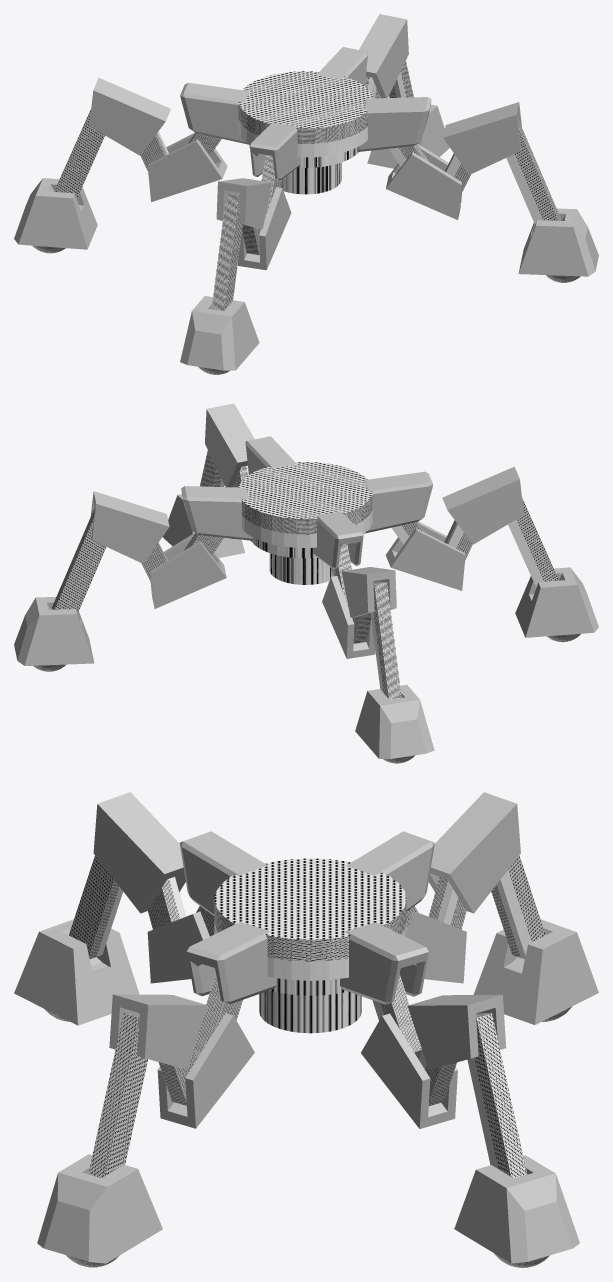
File: RobotBody.fbx
The picture shows the model from 3 angles, top to bottom: view 1: azimuth 30°, elevation 25°; view 2: azimuth 150°, elevation 25°; view 3: azimuth 270°, elevation 25°; orthographic projection. The views are drawn at different scales.
Parts seen in each view (by area): view 1: 실린더, 큐브.032, 큐브.025, 큐브.018, 큐브.024, 큐브.017, 큐브.016, 큐브.023, 큐브.014, 큐브.021, 큐브.004, 큐브.033 (+9 smaller); view 2: 실린더, 큐브.025, 큐브.032, 큐브.005, 큐브.031, 큐브.004, 큐브.030, 큐브.003, 큐브.028, 큐브.000, 큐브.017, 큐브.026 (+9 smaller); view 3: 실린더, 큐브.018, 큐브.005, 큐브.032, 큐브.025, 큐브.031, 큐브.024, 큐브.014, 큐브.000, 큐브.007, 큐브.019, 큐브.017 (+15 smaller).
Boxes of the visible parts, bbox=[...] form: 실린더: bbox=[238, 71, 372, 194]; 큐브.032: bbox=[180, 296, 259, 370]; 큐브.025: bbox=[14, 178, 97, 249]; 큐브.018: bbox=[518, 208, 598, 276]; 큐브.024: bbox=[89, 78, 170, 155]; 큐브.017: bbox=[443, 102, 521, 174]; 큐브.016: bbox=[386, 143, 461, 219]; 큐브.023: bbox=[147, 132, 227, 202]; 큐브.014: bbox=[357, 97, 431, 151]; 큐브.021: bbox=[180, 82, 249, 144]; 큐브.004: bbox=[359, 14, 408, 98]; 큐브.033: bbox=[211, 192, 242, 311]; 실린더: bbox=[238, 462, 372, 584]; 큐브.025: bbox=[355, 685, 434, 759]; 큐브.032: bbox=[515, 567, 598, 637]; 큐브.005: bbox=[14, 596, 94, 665]; 큐브.031: bbox=[442, 466, 523, 544]; 큐브.004: bbox=[90, 491, 169, 563]; 큐브.030: bbox=[385, 521, 465, 590]; 큐브.003: bbox=[150, 533, 226, 608]; 큐브.028: bbox=[364, 471, 433, 533]; 큐브.000: bbox=[181, 486, 253, 540]; 큐브.017: bbox=[205, 403, 254, 487]; 큐브.026: bbox=[370, 581, 401, 699]; 실린더: bbox=[214, 858, 406, 1033]; 큐브.018: bbox=[37, 1154, 162, 1263]; 큐브.005: bbox=[454, 1155, 579, 1263]; 큐브.032: bbox=[14, 919, 139, 1025]; 큐브.025: bbox=[473, 919, 598, 1024]; 큐브.031: bbox=[93, 792, 185, 913]; 큐브.024: bbox=[428, 792, 520, 913]; 큐브.014: bbox=[186, 922, 276, 1004]; 큐브.000: bbox=[340, 922, 428, 1004]; 큐브.007: bbox=[467, 1013, 527, 1178]; 큐브.019: bbox=[88, 1012, 147, 1177]; 큐브.017: bbox=[109, 994, 207, 1069].
Bounding box in the file's own units: 1445 × 563 × 1217.
